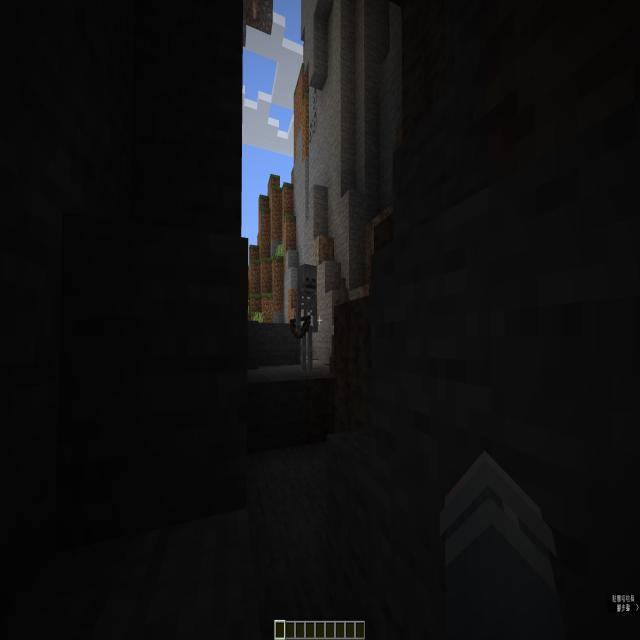Skeleton: (282, 249, 334, 388)
